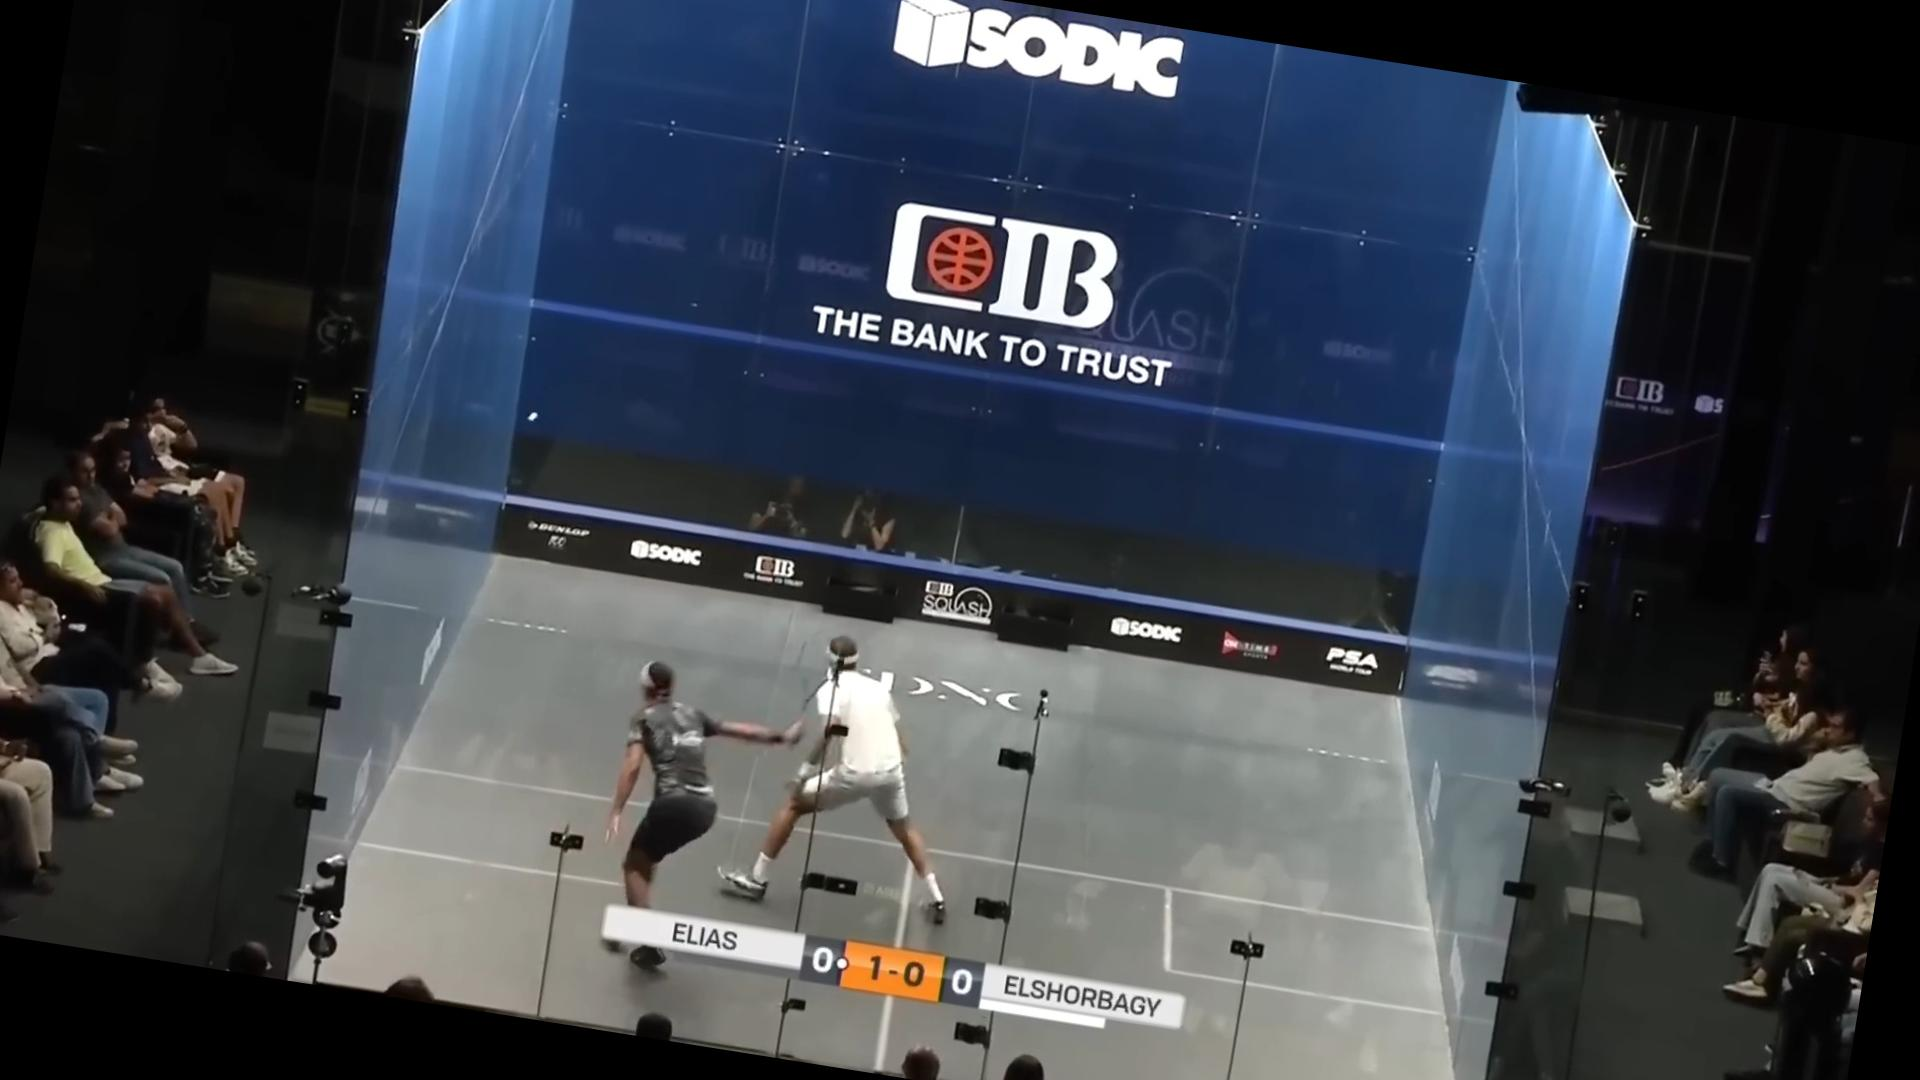Squash-Ball: (513, 397, 547, 435)
